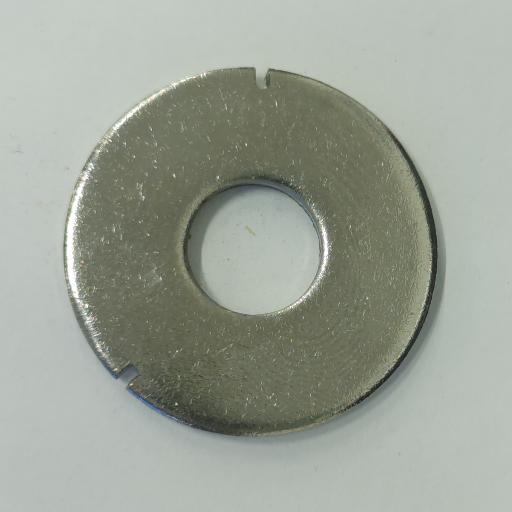burr: (116, 361, 142, 388), (251, 63, 272, 92)
